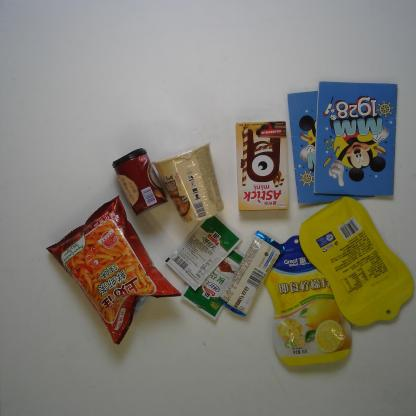Canned Food: (110, 146, 169, 216)
Chocolate: (217, 229, 285, 316)
Dessert: (233, 118, 292, 213)
Dried Fruit: (299, 193, 415, 327), (263, 234, 352, 368)
Instant Noodles: (152, 140, 226, 224)
Puffed Food: (43, 194, 183, 345)
Seasoner: (164, 212, 244, 295), (181, 246, 254, 324)
Stationery: (286, 88, 376, 207), (313, 78, 399, 200)
